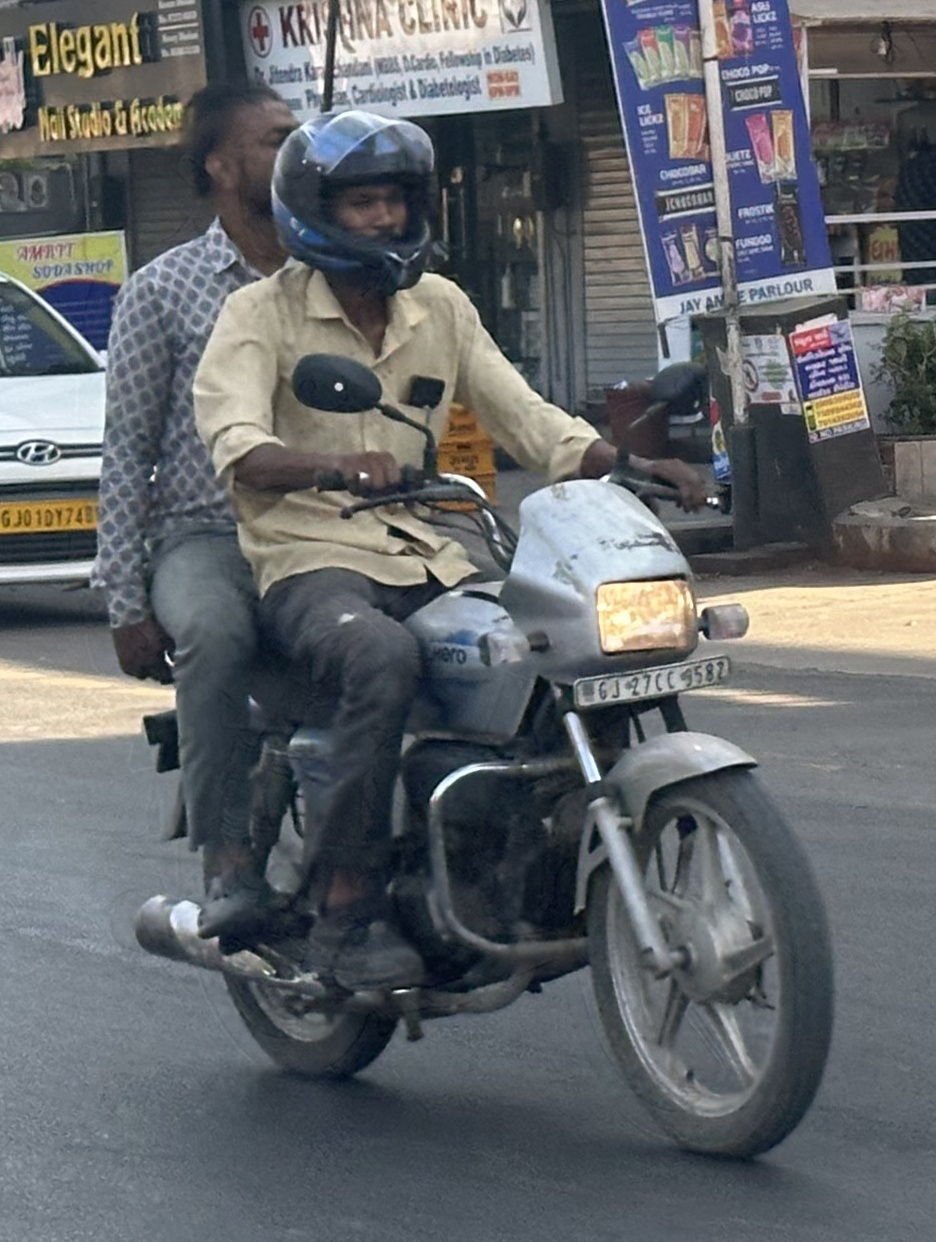BikeWithRider: (81, 66, 856, 1174)
Helmet: (256, 95, 454, 305)
NoHelmet: (167, 71, 317, 258)
